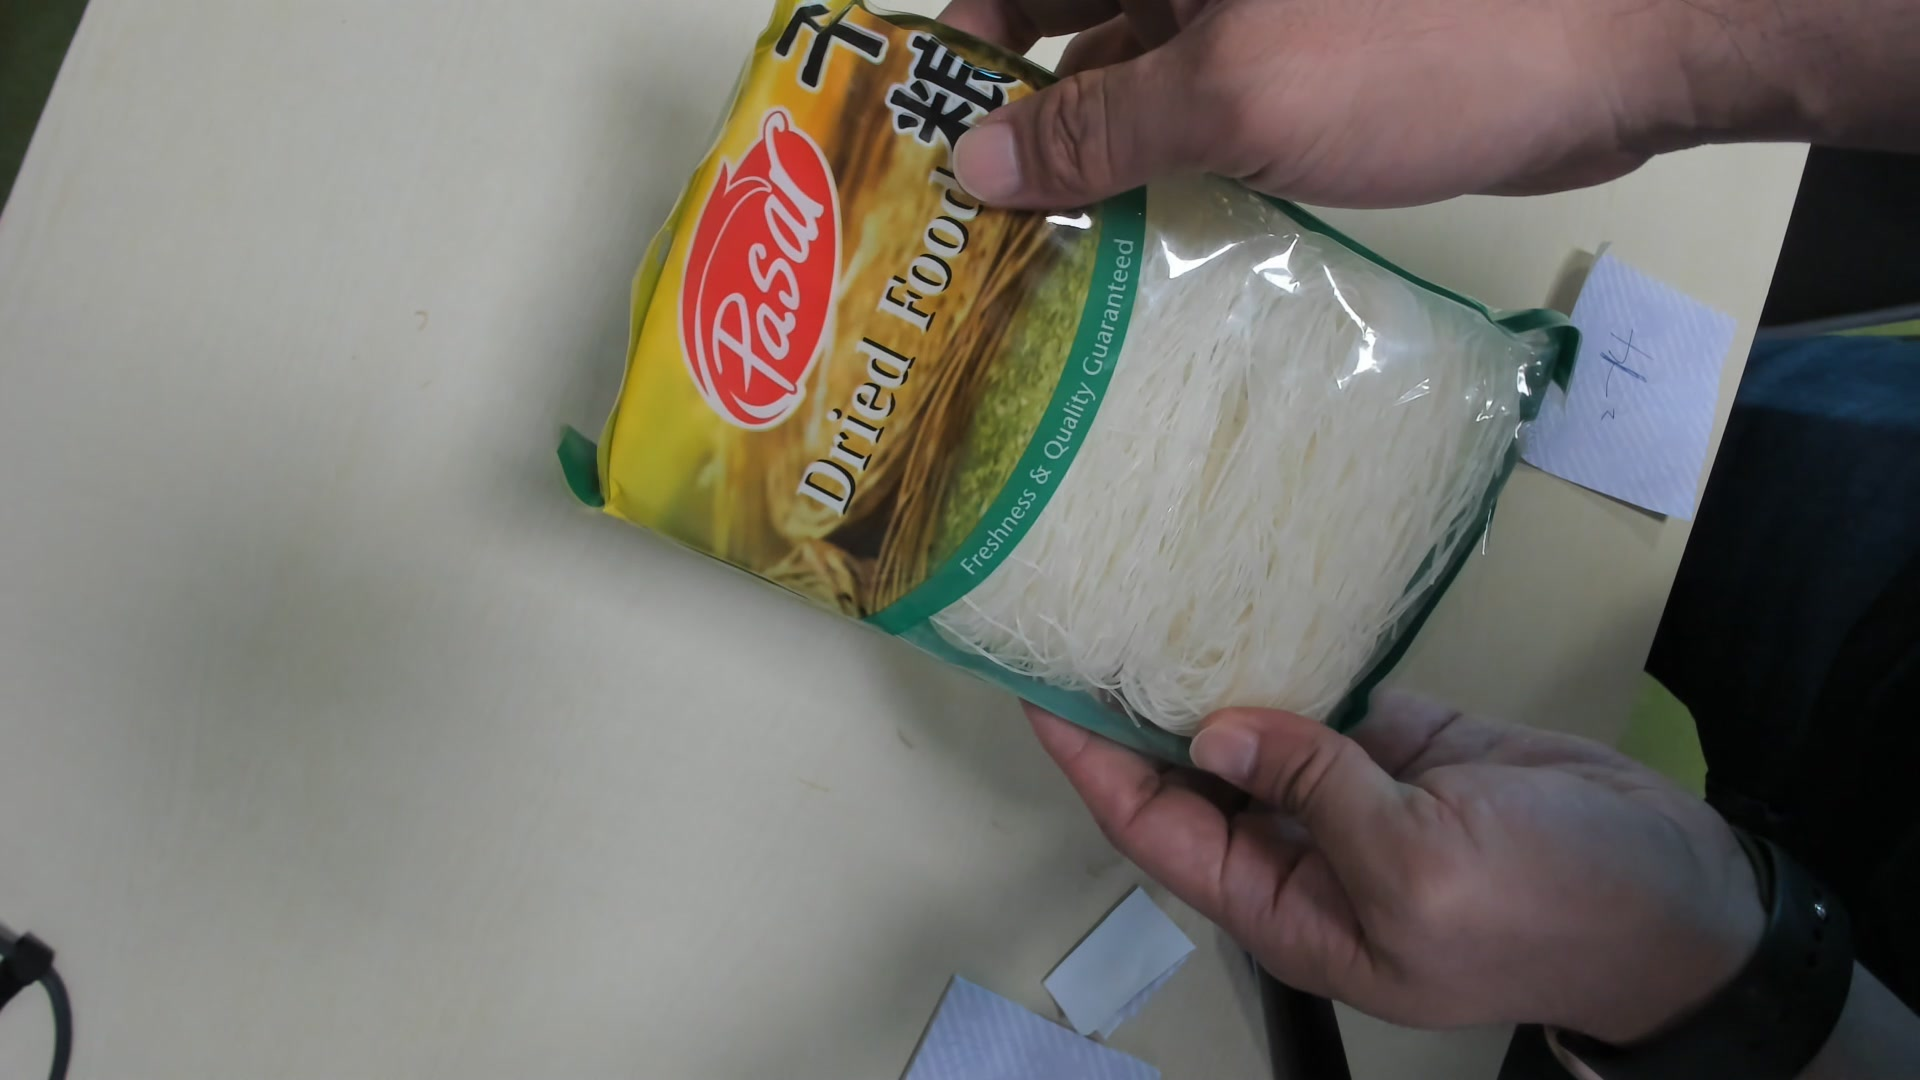BeeHoonVermicelli_100-199g_NonHalal_NonHealthy: (579, 7, 1569, 789)
